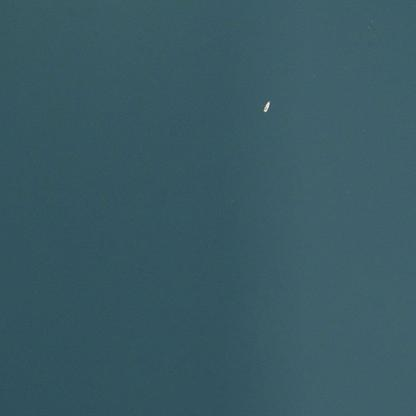ship: (255, 94, 275, 116)
